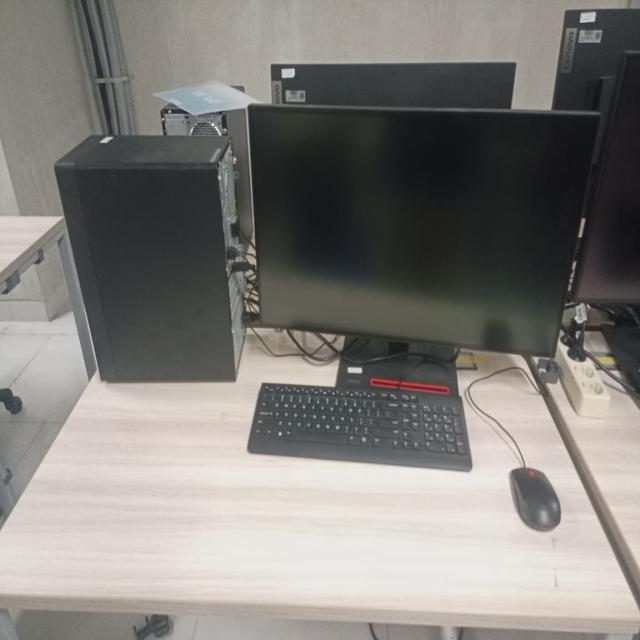keyboard: (250, 378, 477, 489)
monitor: (246, 102, 604, 376)
mouse: (497, 461, 577, 540)
pc: (46, 122, 247, 388)
